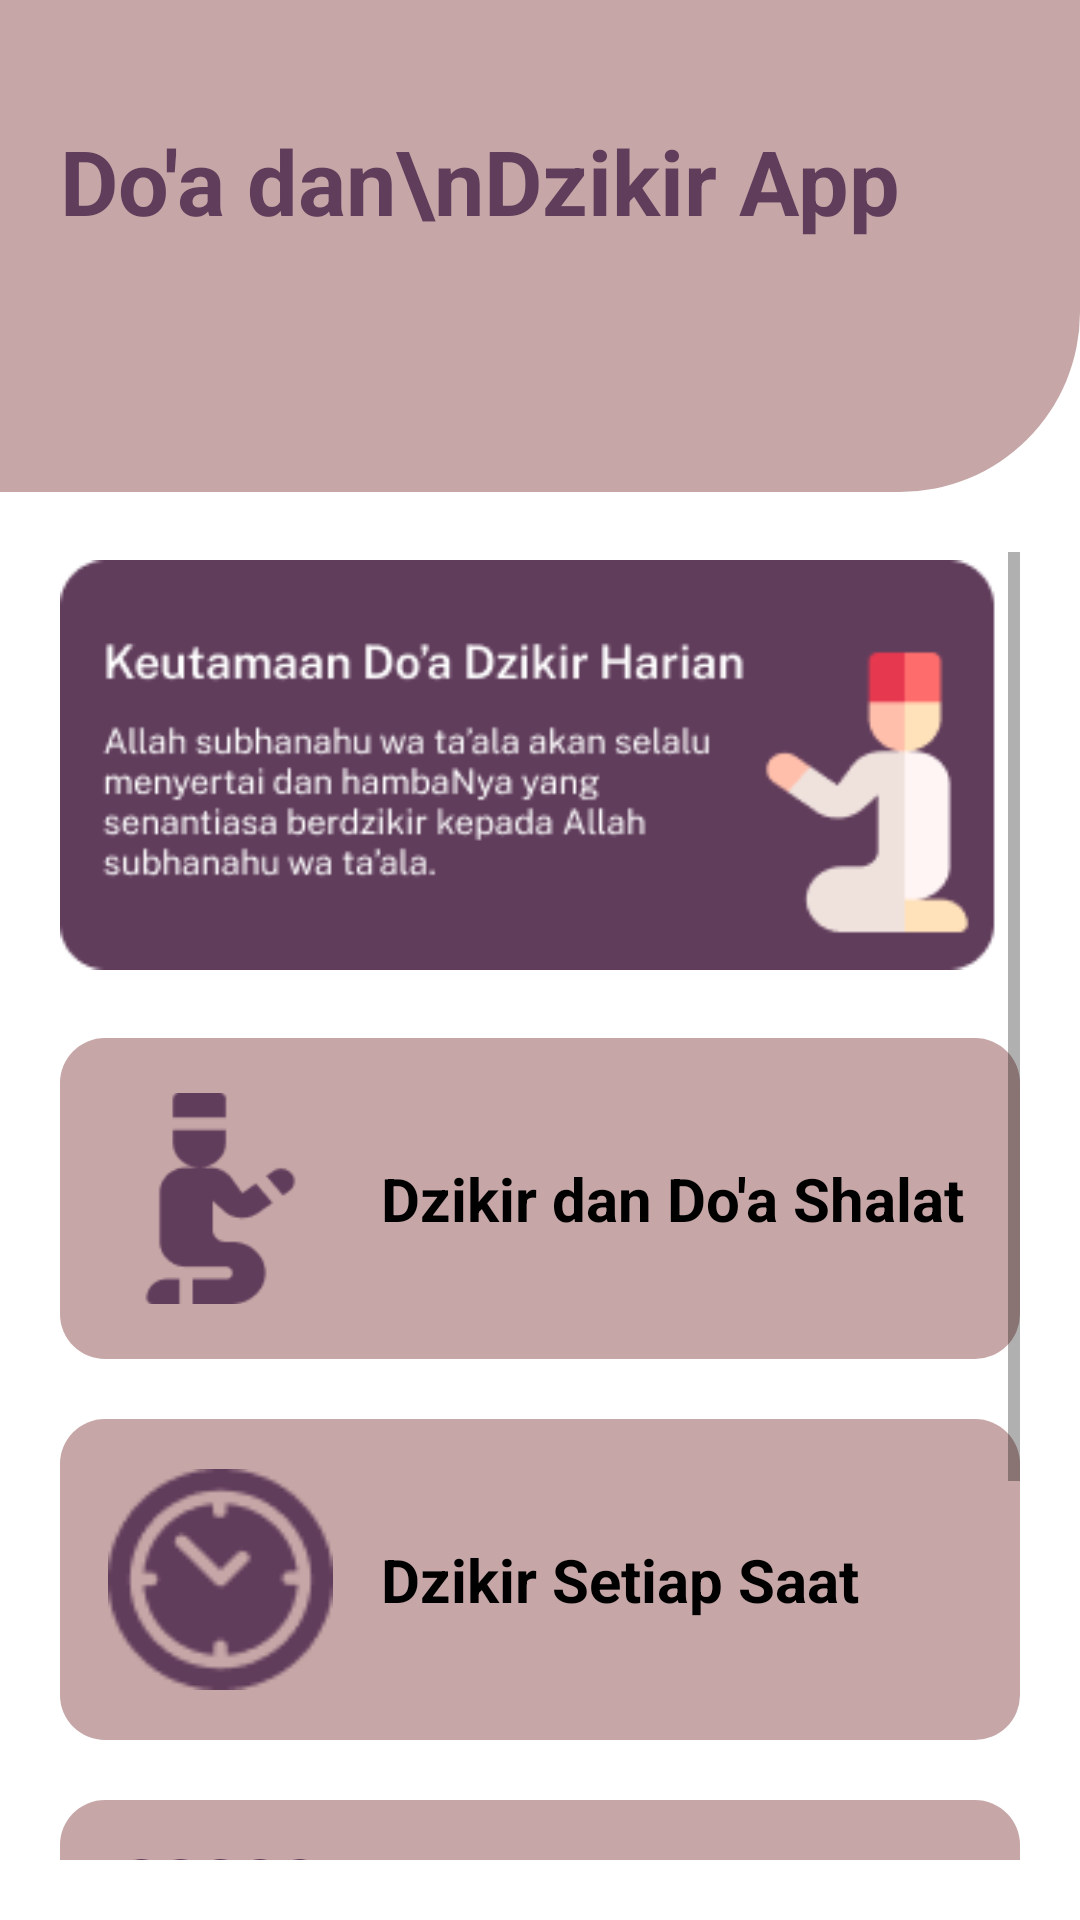

Where icons sit on this 1080w x 1920h app screen, as (x1, y1, x2, y2):
clock: (108, 1469, 333, 1690)
pray: (146, 1093, 295, 1304)
